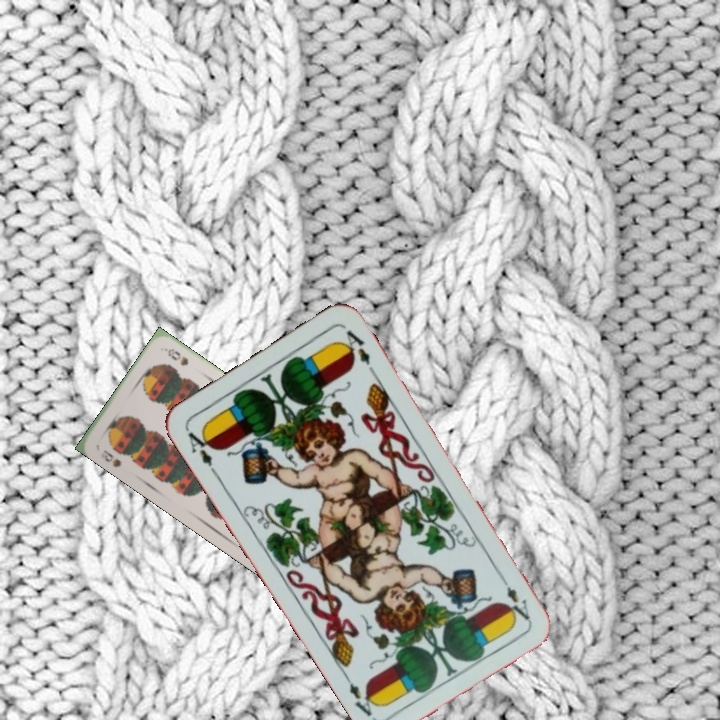EA: (495, 569, 533, 623), (183, 426, 221, 479)
S8: (99, 445, 124, 470)
